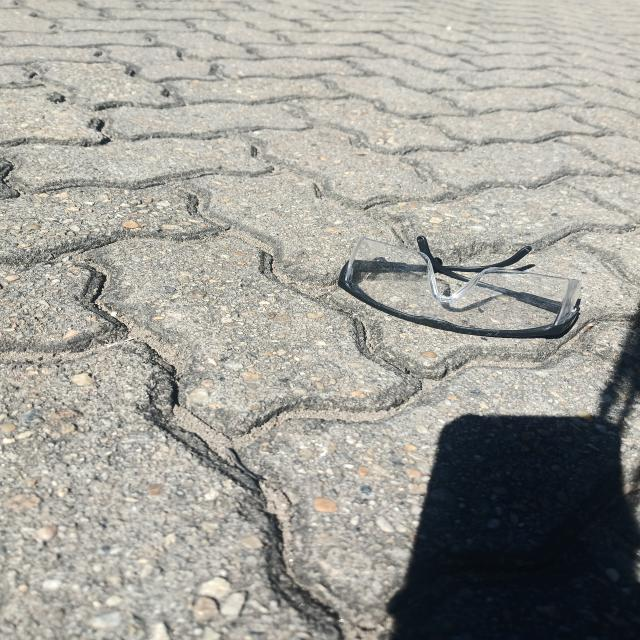oculos-epi: (338, 236, 581, 338)
